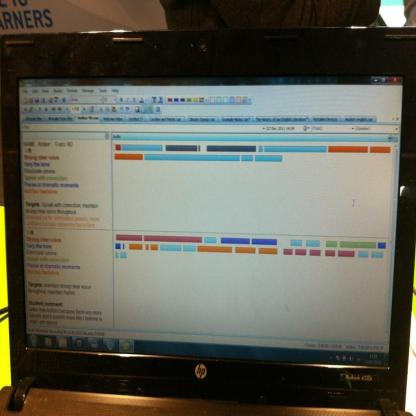board: (0, 26, 416, 416)
